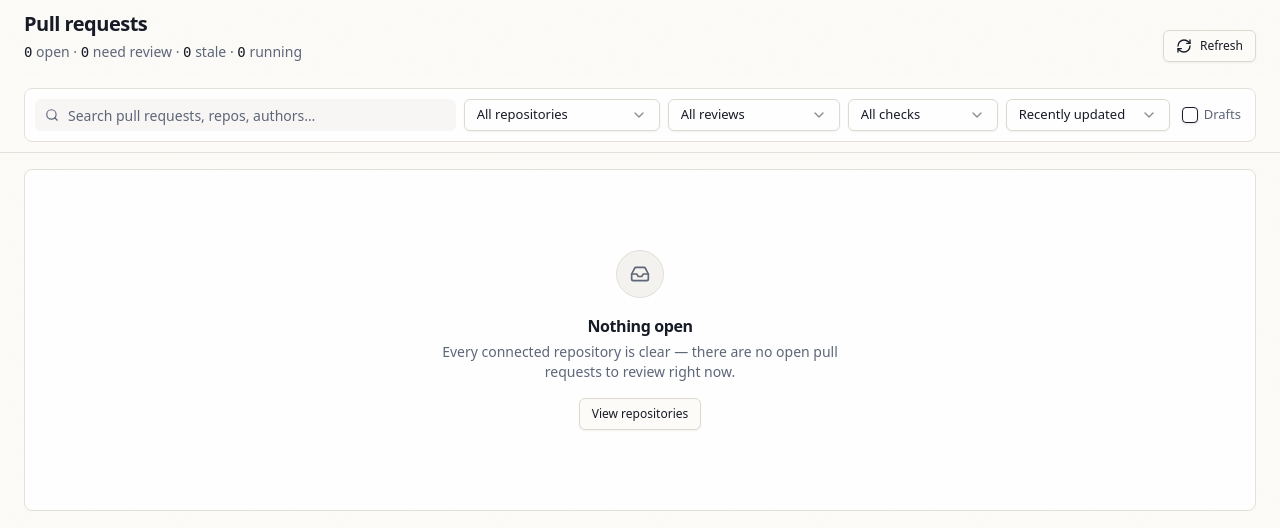
Test case: states › offers to clear the filters when they match nothing
This screenshot has width=1280, height=528.
expect the heading "Nothing open" is shown: met, box [587,315,693,337]
Type "zzz" into the field labelled "Search pull requests" at point(245, 115), box [35,99,456,131]
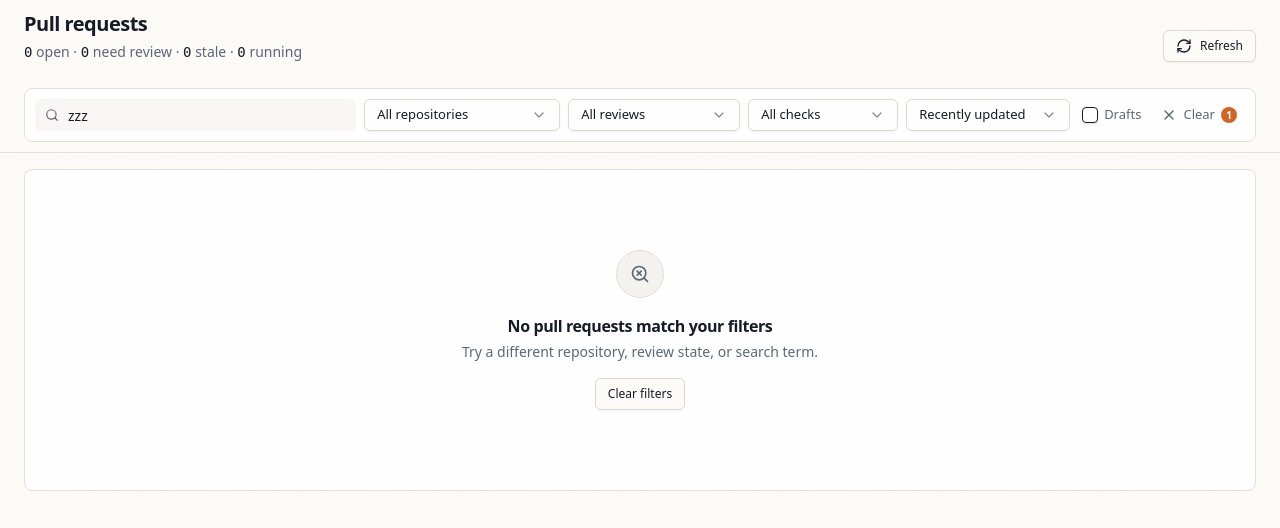
expect the heading "No pull requests match your filters" is shown: met, box [508,315,772,337]
Click the button "Clear filters" at point(640, 394), box [595,378,685,410]
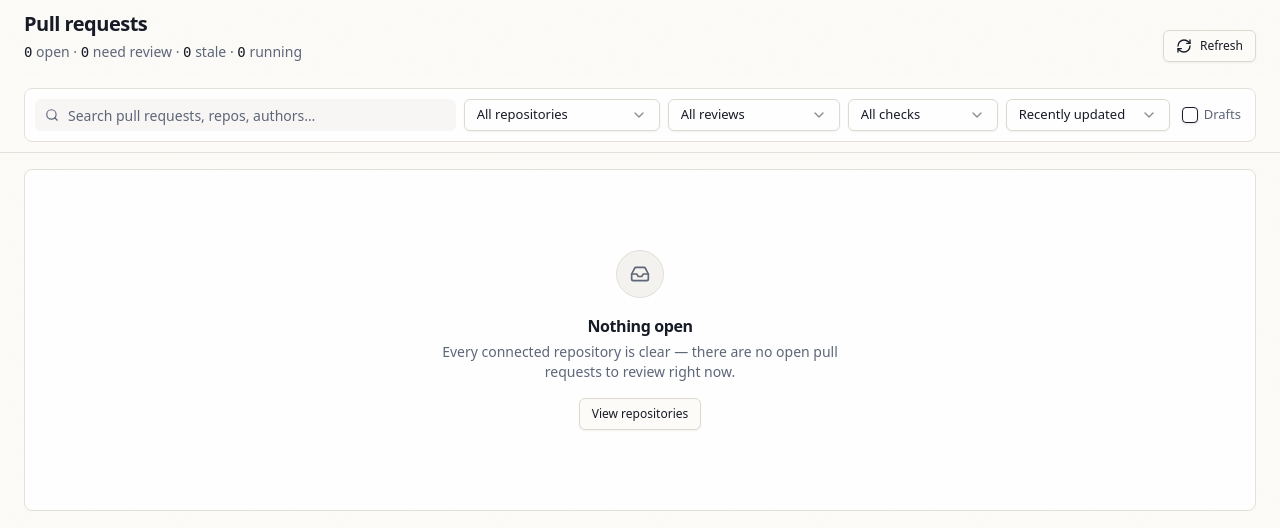
expect the field labelled "Search pull requests" is empty: met, box [35,99,456,131]
